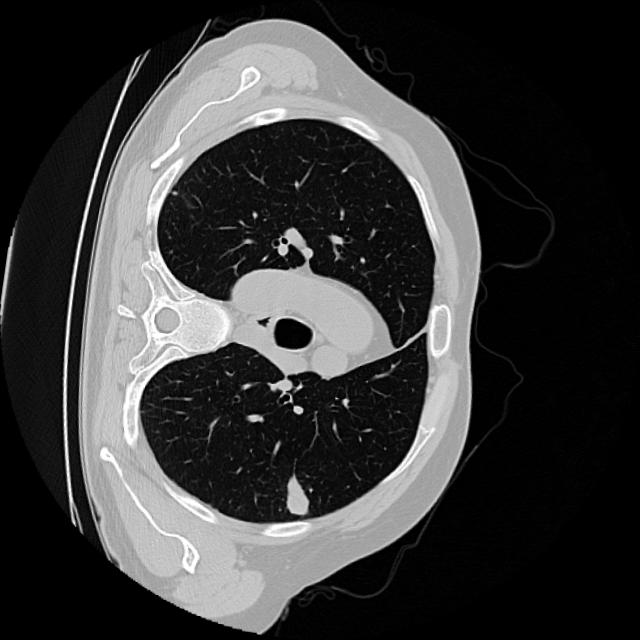nodule: (263, 467, 331, 535)
